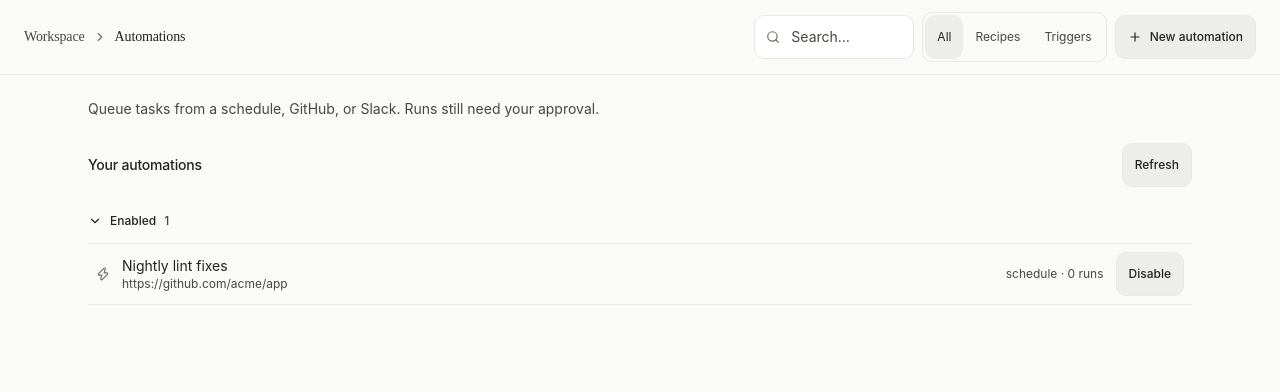
Test case: AutomationsView › keeps an automation unchanged when its update fails
The image size is (1280, 392).
What coordinates should you click on to do the following:
click the button with aria-label "Disable nightly-lint"
I would click on:
 (1150, 274)
Its box is left=1116, top=252, right=1184, bottom=296.
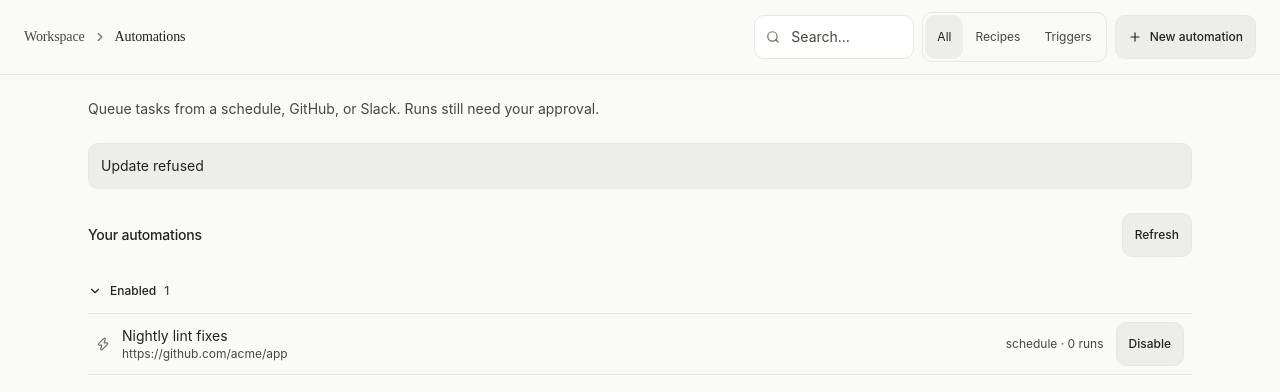
Check: the button with aria-label "Disable nightly-lint" is enabled, box left=1116, top=322, right=1184, bottom=366
Check: the text "Update refused" is shown, box left=88, top=143, right=1192, bottom=189
